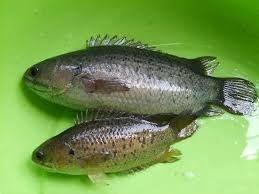Climbing Perch: (22, 31, 259, 118), (28, 106, 200, 190)
